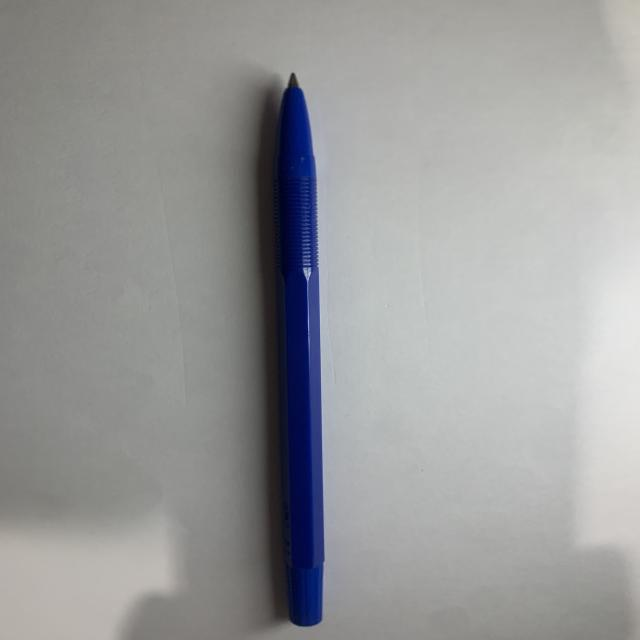Pulpen: (245, 62, 358, 637)
